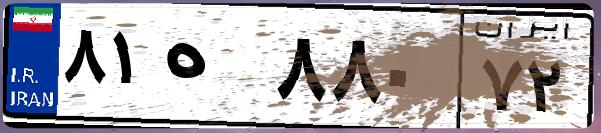0: (385, 28, 445, 110)
1: (110, 28, 158, 98)
2: (525, 38, 570, 115)
7: (475, 38, 525, 113)
8: (270, 28, 330, 110), (330, 28, 385, 110), (57, 26, 110, 100)
ه: (158, 20, 270, 120)
